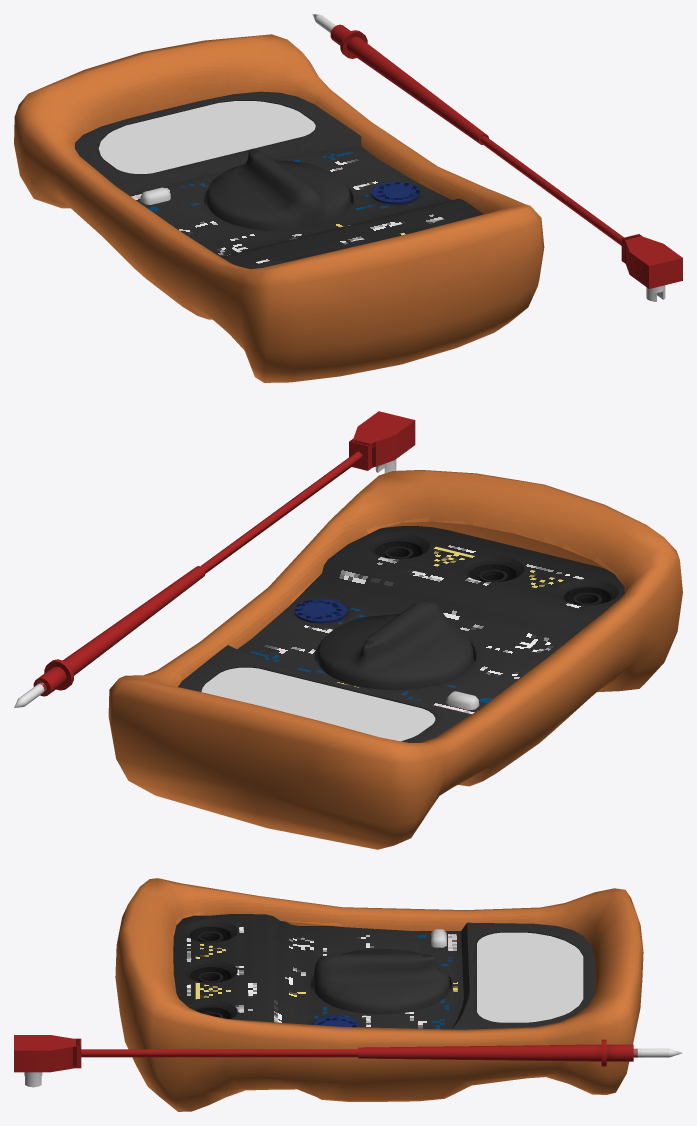
Rendered from scrap_multimeter.glb.
3 renders of one model, top to bottom at view 1: azimuth 30°, elevation 25°; view 2: azimuth 150°, elevation 25°; view 3: azimuth 270°, elevation 25°, orthographic. The views are drawn at different scales.
Visible parts, largest first — view 1: multimeterholder_low, multimeter_low, multimeterglass_low, multimeterrond_low, multimeterpointe_low, multimetertruc_low, multimeterwireREPLACE; view 2: multimeterholder_low, multimeter_low, multimeterrond_low, multimeterglass_low, multimeterpointe_low, multimetertruc_low, multimeterwireREPLACE; view 3: multimeterholder_low, multimeter_low, multimeterglass_low, multimeterrond_low, multimeterpointe_low, multimetertruc_low, multimeterwireREPLACE.
Boxes of the visible parts, x1,y1,x2,y2 form: multimeterholder_low: [14, 34, 544, 382]; multimeter_low: [75, 91, 483, 269]; multimeterglass_low: [98, 101, 315, 173]; multimeterrond_low: [206, 149, 350, 230]; multimeterpointe_low: [312, 14, 488, 144]; multimetertruc_low: [621, 234, 682, 301]; multimeterwireREPLACE: [480, 136, 623, 245]; multimeterholder_low: [108, 470, 682, 849]; multimeter_low: [178, 526, 624, 742]; multimeterrond_low: [317, 600, 473, 689]; multimeterglass_low: [201, 667, 435, 741]; multimeterpointe_low: [14, 566, 205, 707]; multimetertruc_low: [349, 411, 415, 473]; multimeterwireREPLACE: [201, 451, 362, 573]; multimeterholder_low: [115, 878, 643, 1111]; multimeter_low: [173, 914, 594, 1029]; multimeterglass_low: [477, 932, 583, 1022]; multimeterrond_low: [313, 949, 449, 1014]; multimeterpointe_low: [358, 1039, 682, 1066]; multimetertruc_low: [14, 1035, 81, 1087]; multimeterwireREPLACE: [81, 1049, 358, 1057].
Size of the model in its own units: 0.1051 by 0.0407 by 0.18.
Materials: 2 (1 with a texture image).
